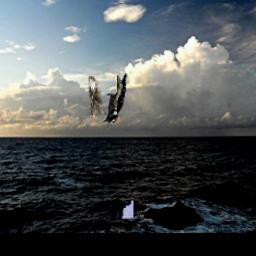Crow: (92, 116, 132, 220)
Cuckoo: (89, 77, 106, 116)
Woodpecker: (102, 74, 127, 123)
